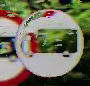Heavy Vehicles: (18, 8, 82, 78)
